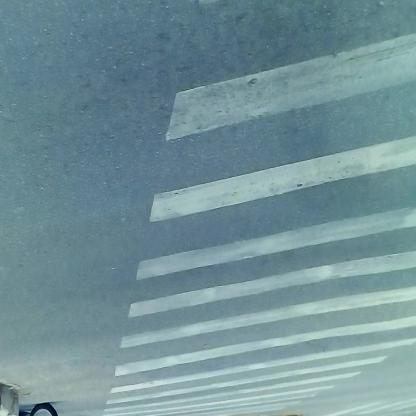crosswalk: (102, 16, 411, 412)
